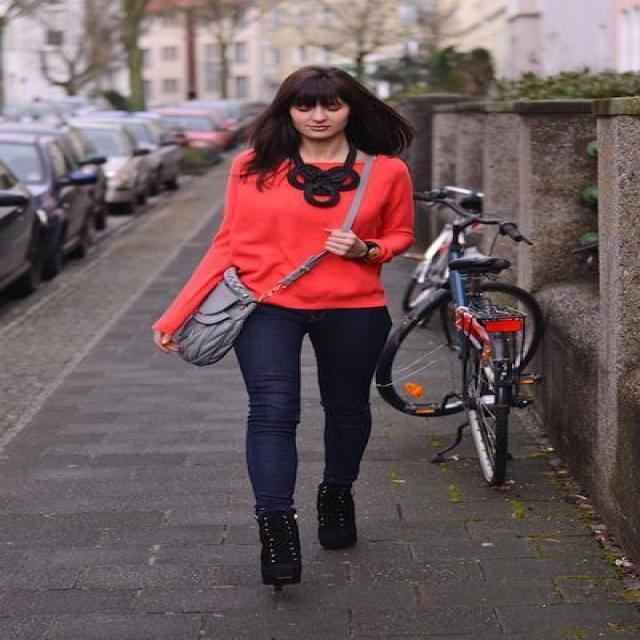jacket: (154, 154, 412, 332)
pants: (211, 300, 402, 498)
shoe: (254, 473, 357, 590)
